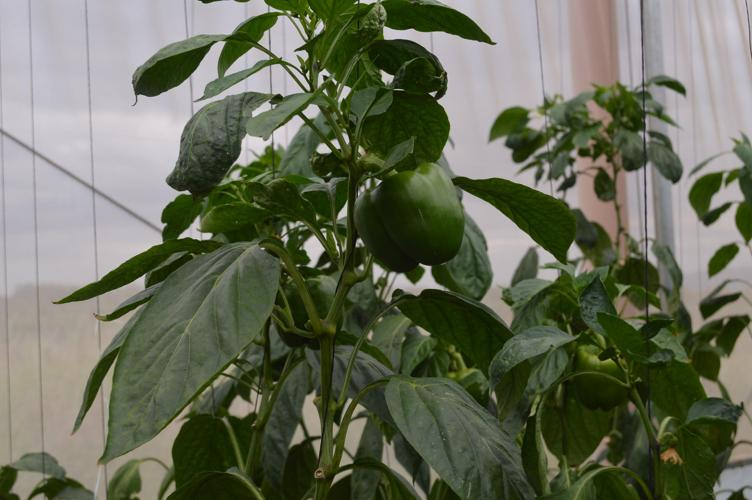BellPepper: (343, 164, 473, 277), (561, 339, 645, 438)
